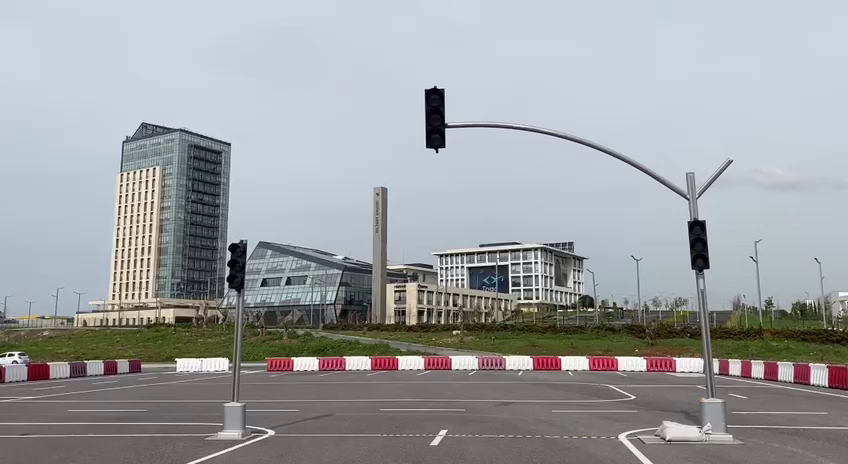trafficLight: (421, 82, 447, 155), (683, 216, 714, 276), (222, 236, 249, 292)
